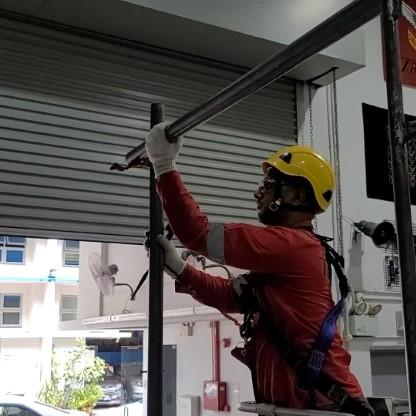helmet: (245, 133, 336, 237)
